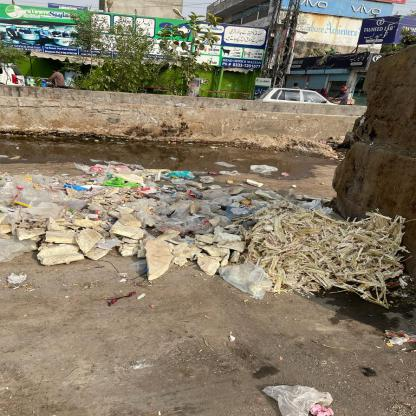Garbage: (55, 163, 401, 292)
